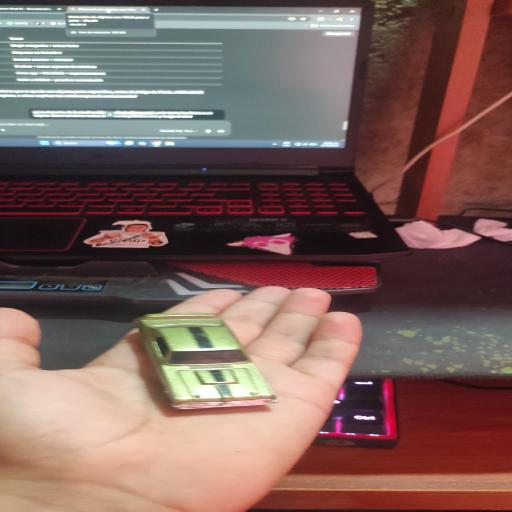Carrito: (138, 313, 276, 409)
